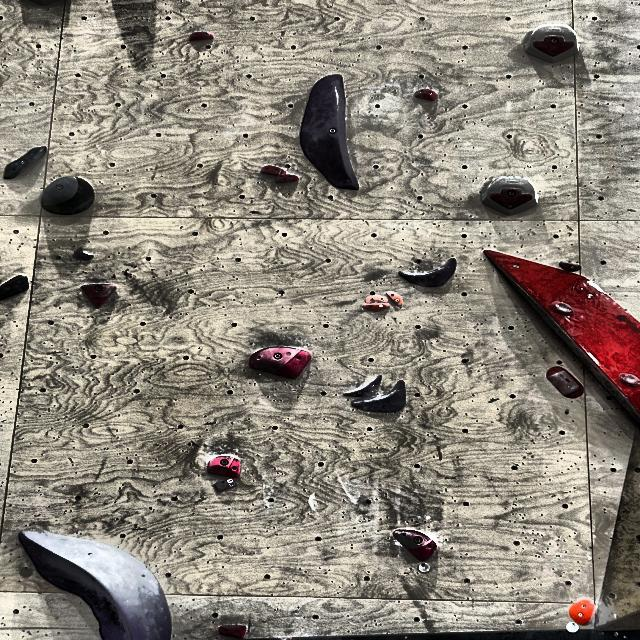Downclimb: (524, 23, 578, 63), (483, 176, 538, 213)
Hold: (300, 75, 359, 190), (41, 176, 94, 216), (249, 347, 311, 379), (353, 380, 406, 413), (400, 258, 457, 288), (3, 146, 47, 180), (393, 529, 437, 562), (546, 366, 584, 398), (343, 375, 382, 400), (82, 284, 116, 308), (207, 455, 240, 478), (568, 599, 595, 626), (0, 275, 29, 300), (218, 625, 247, 639), (415, 88, 438, 102), (189, 31, 214, 43), (553, 301, 573, 315), (73, 248, 94, 261), (558, 261, 580, 273), (620, 373, 640, 386), (260, 166, 286, 175), (363, 303, 390, 311), (387, 292, 402, 306), (364, 295, 389, 303), (275, 175, 298, 183)
Macro: (486, 251, 640, 426), (19, 531, 171, 640)
Volume: (598, 432, 640, 631)
start_tag: (417, 562, 432, 573), (566, 623, 579, 633), (19, 567, 32, 576)
